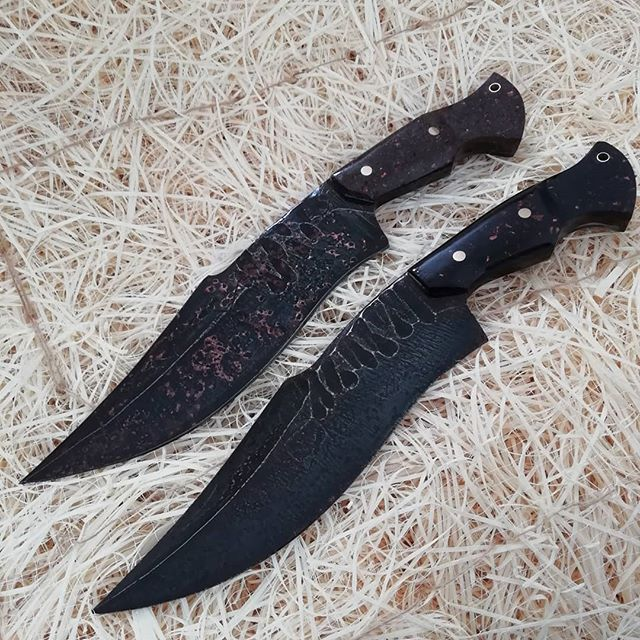knife: (93, 142, 637, 613), (20, 72, 526, 483)
